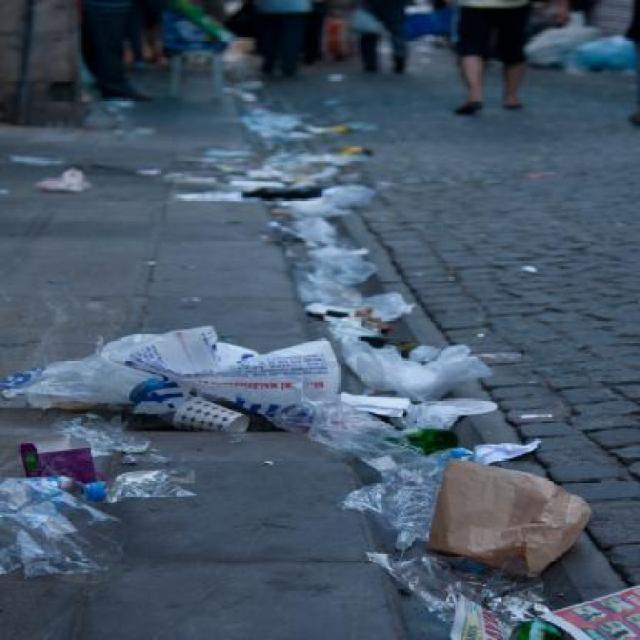garbage: (282, 388, 640, 640), (226, 100, 402, 378), (0, 358, 252, 426), (6, 438, 117, 570), (101, 323, 226, 357), (36, 166, 97, 198), (101, 93, 136, 112)
